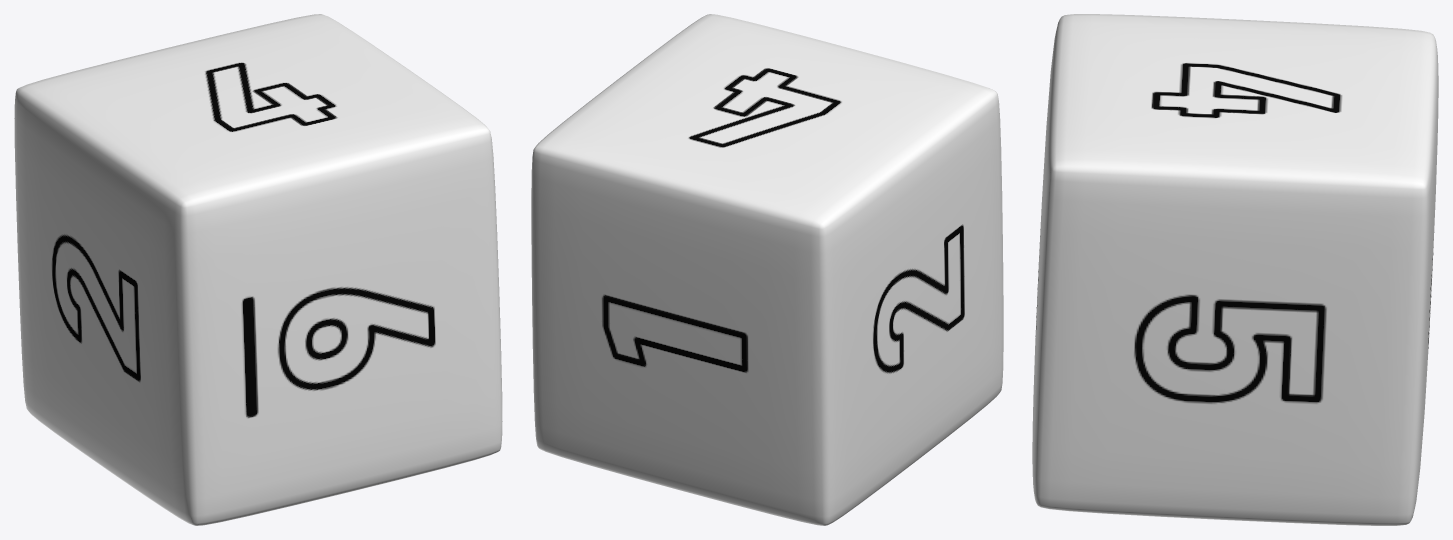
The model's file is dice6.fbx.
3 views of the same model, side by side, from view 1: azimuth 30°, elevation 25°; view 2: azimuth 150°, elevation 25°; view 3: azimuth 270°, elevation 25° (orthographic). The views are drawn at different scales.
Parts seen in each view (by area): view 1: Solid.002; view 2: Solid.002; view 3: Solid.002.
Boxes of the visible parts, x1,y1,x2,y2 form: Solid.002: (14,14,502,525); Solid.002: (531,14,1003,525); Solid.002: (1032,14,1438,525).
Size of the model in its own units: 116 by 118 by 119.
